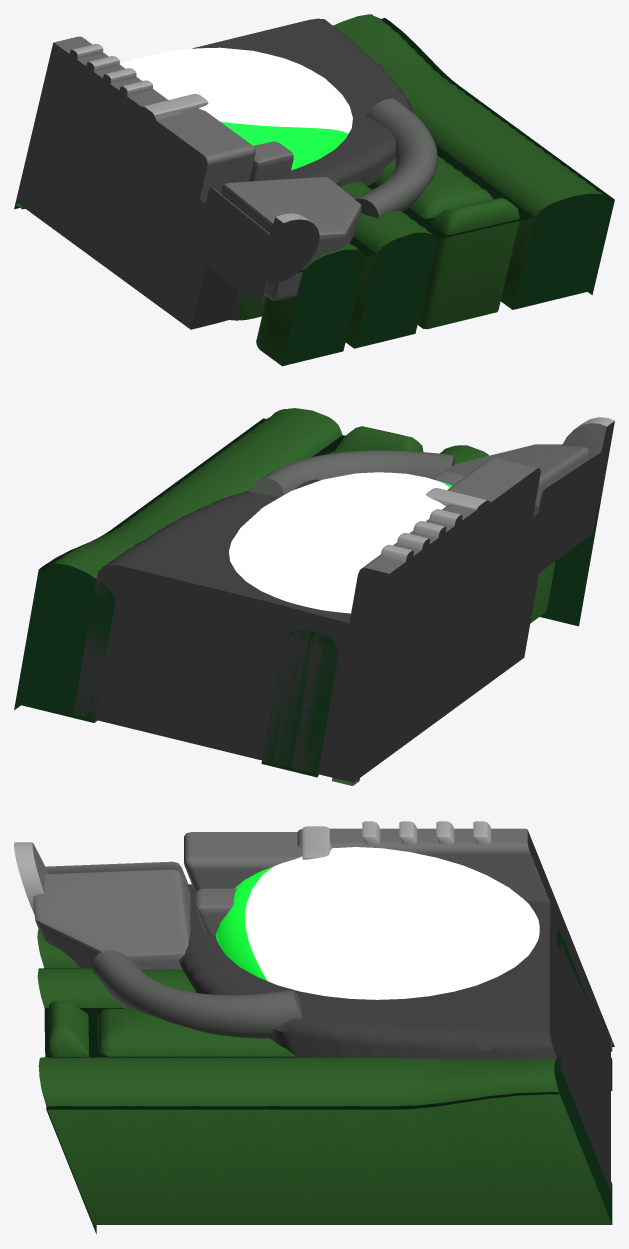
File: green_shell_205.glb
The picture shows the model from 3 angles, top to bottom: view 1: azimuth 30°, elevation 25°; view 2: azimuth 150°, elevation 25°; view 3: azimuth 270°, elevation 25°; orthographic projection. The views are drawn at different scales.
Visible parts, largest first — view 1: green_shell_205; view 2: green_shell_205; view 3: green_shell_205.
Boxes of the visible parts, x1,y1,x2,y2 form: green_shell_205: (14, 14, 614, 366); green_shell_205: (14, 408, 614, 785); green_shell_205: (14, 821, 614, 1234).
Bounding box in the file's own units: 24 × 13.45 × 32.46.
